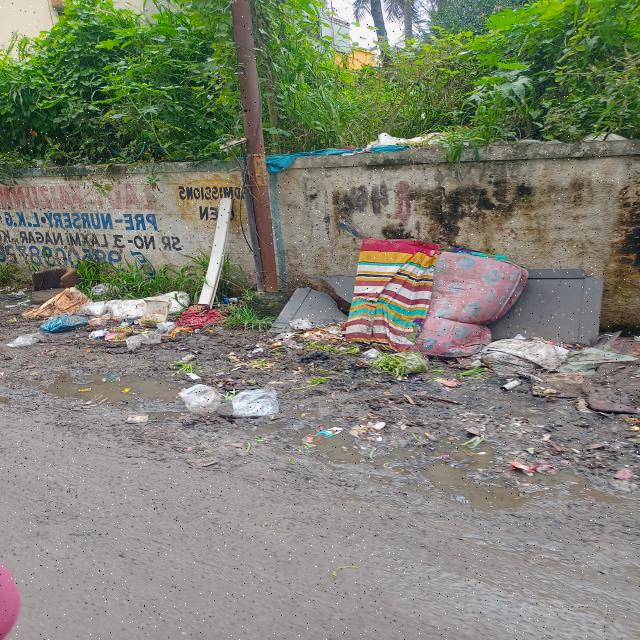garbage: (260, 248, 610, 395), (6, 269, 230, 354)
